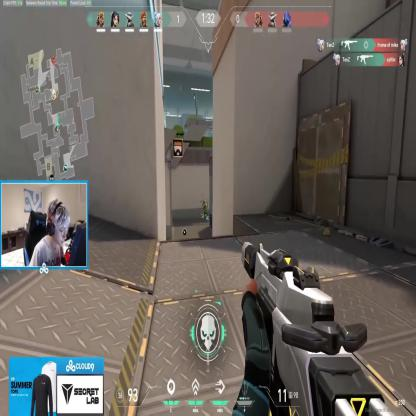enemy: (204, 201, 207, 217)
enemy_head: (205, 200, 206, 203)
